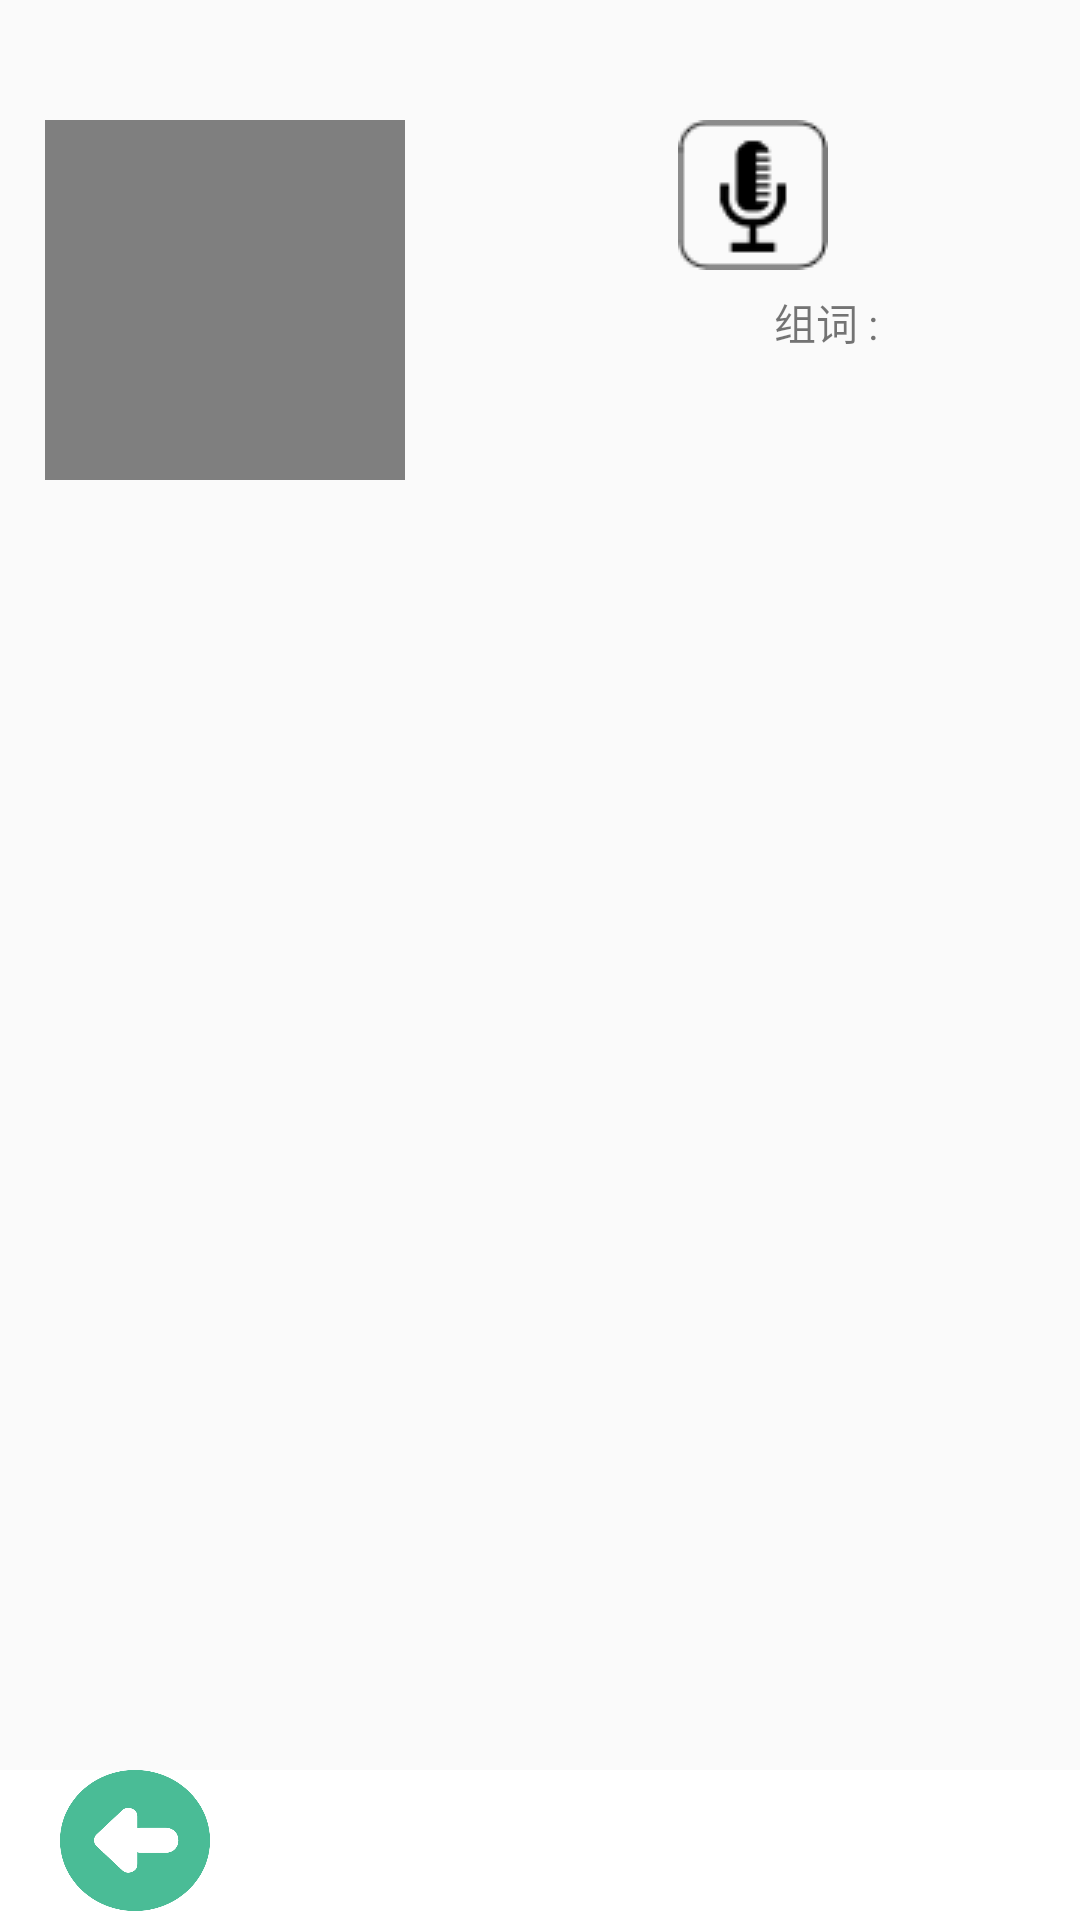

Screen size 1080*1920. Icon name, then its box in pixels as (x1, y1, x2, y2):
micsicon: (678, 120, 828, 270)
previous: (60, 1770, 210, 1911)
